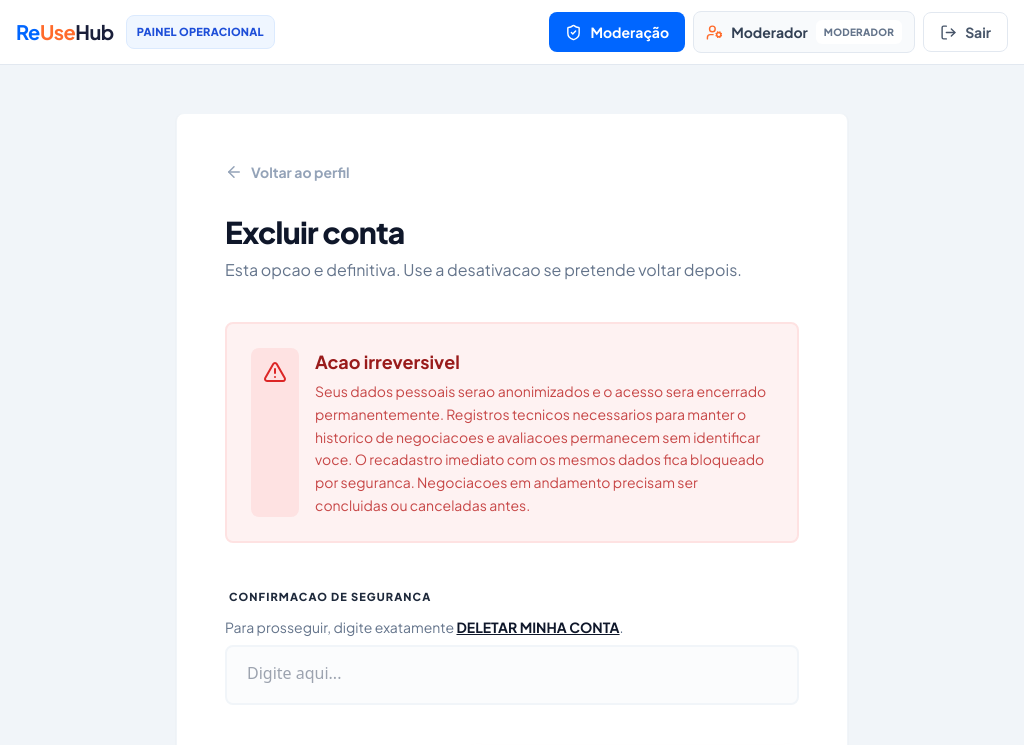
Test case: paginas de perfil › deleta e desativa conta com confirmacao e trata erros
Type "DELETAR MINHA CONTA" into the field with placeholder "Digite aqui...". click: (512, 674)
box: x1=225 y1=644 x2=799 y2=704
(page scrolled)
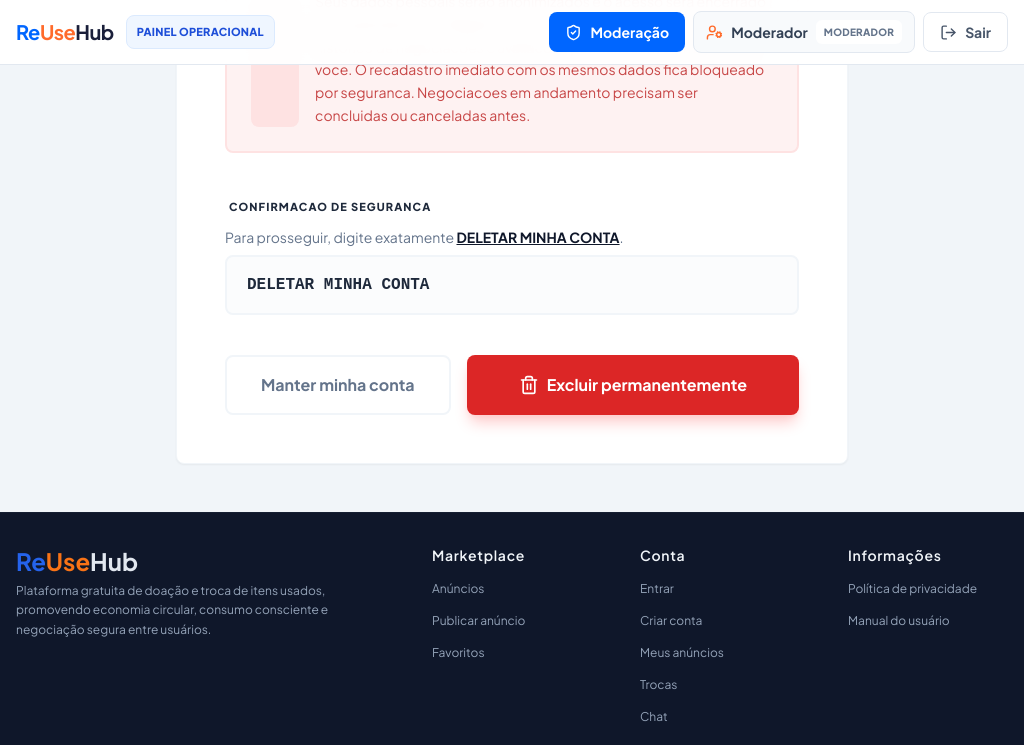
Click the button "Excluir permanentemente". click: (633, 384)
box: x1=467 y1=354 x2=799 y2=414
(page scrolled)
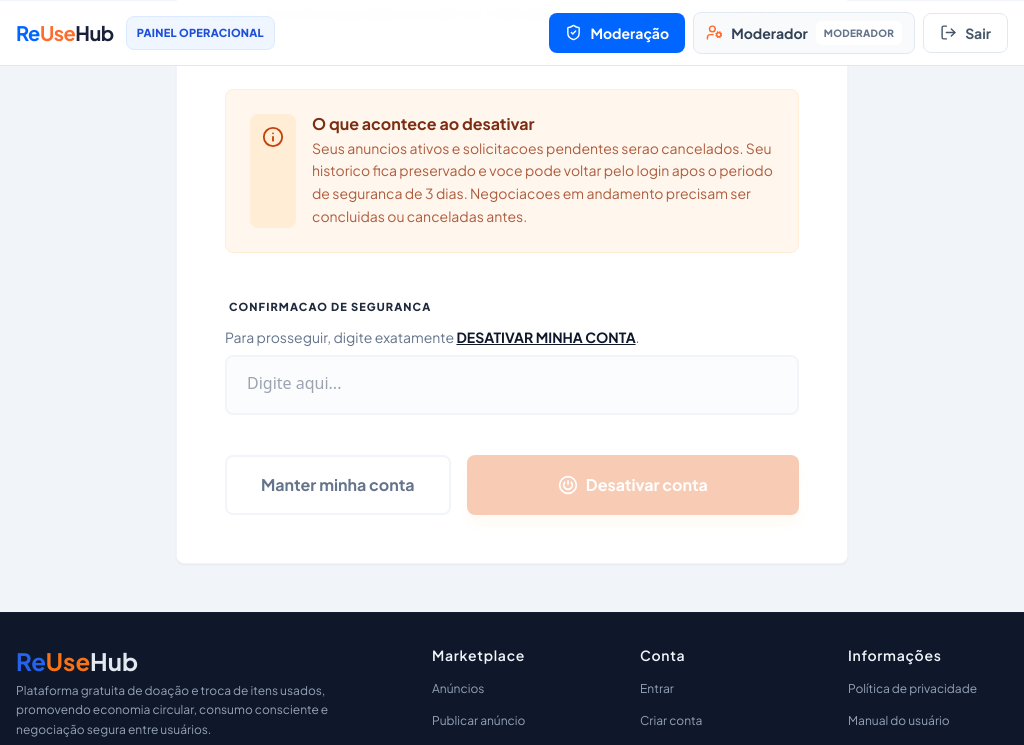
Type "DESATIVAR MINHA CONTA" into the field with placeholder "Digite aqui...". click: (512, 385)
box: x1=225 y1=355 x2=799 y2=415
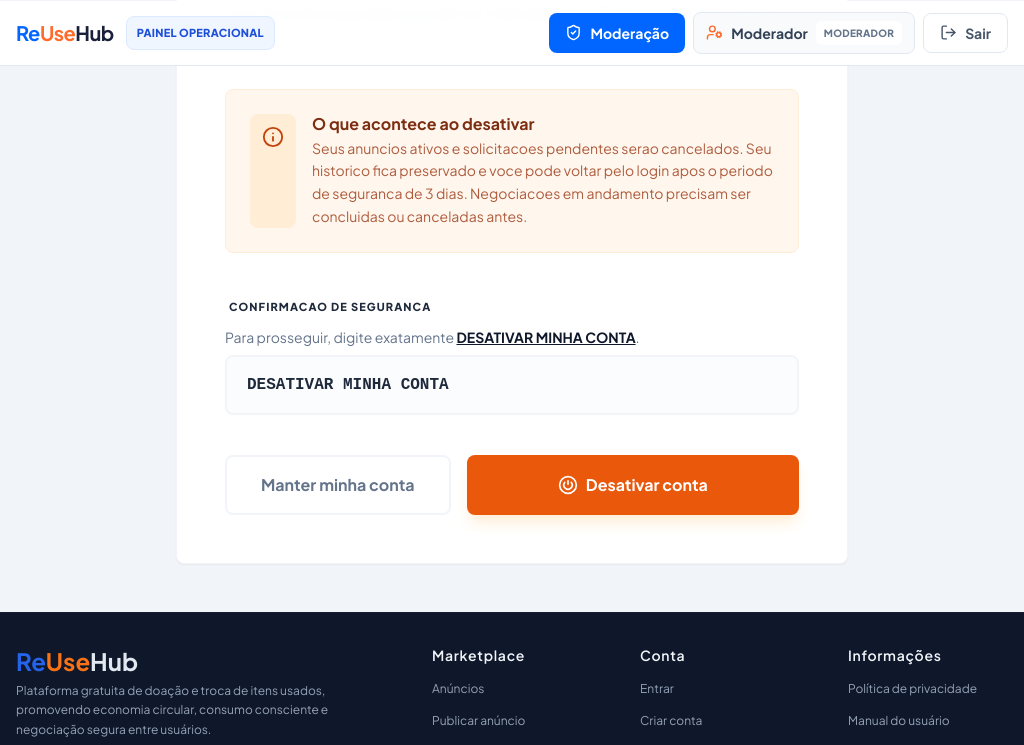
Click the button "Desativar conta". click: (633, 485)
box: x1=467 y1=455 x2=799 y2=515
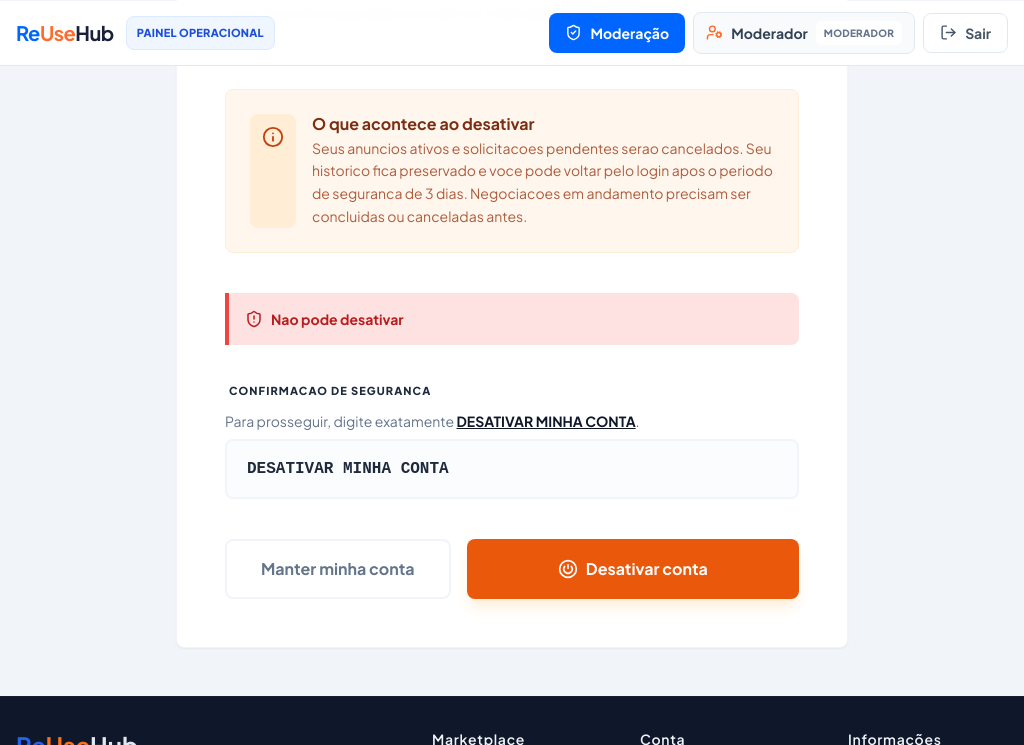
Expected: the text "Nao pode desativar" is shown, x1=225 y1=293 x2=799 y2=345
